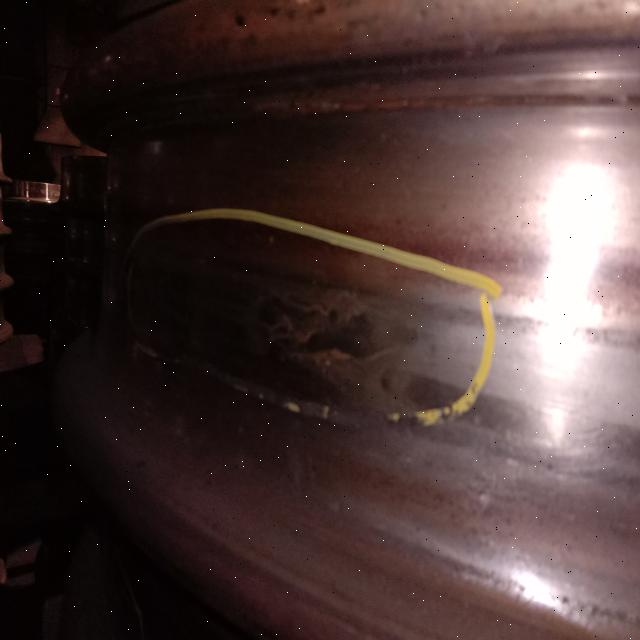flat: (260, 273, 426, 395)
